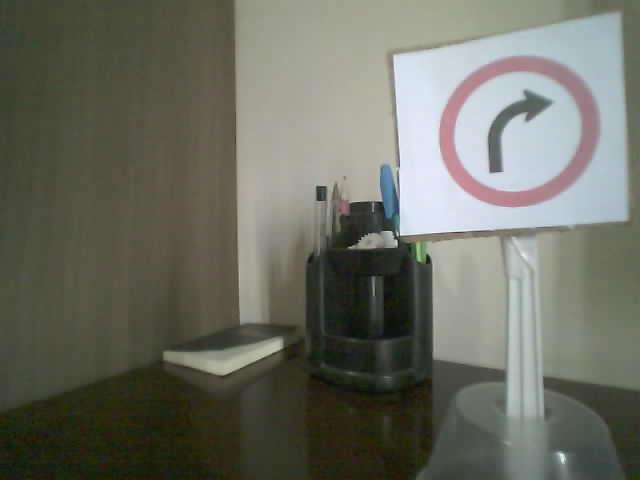R-25b_direita: (436, 55, 598, 205)
